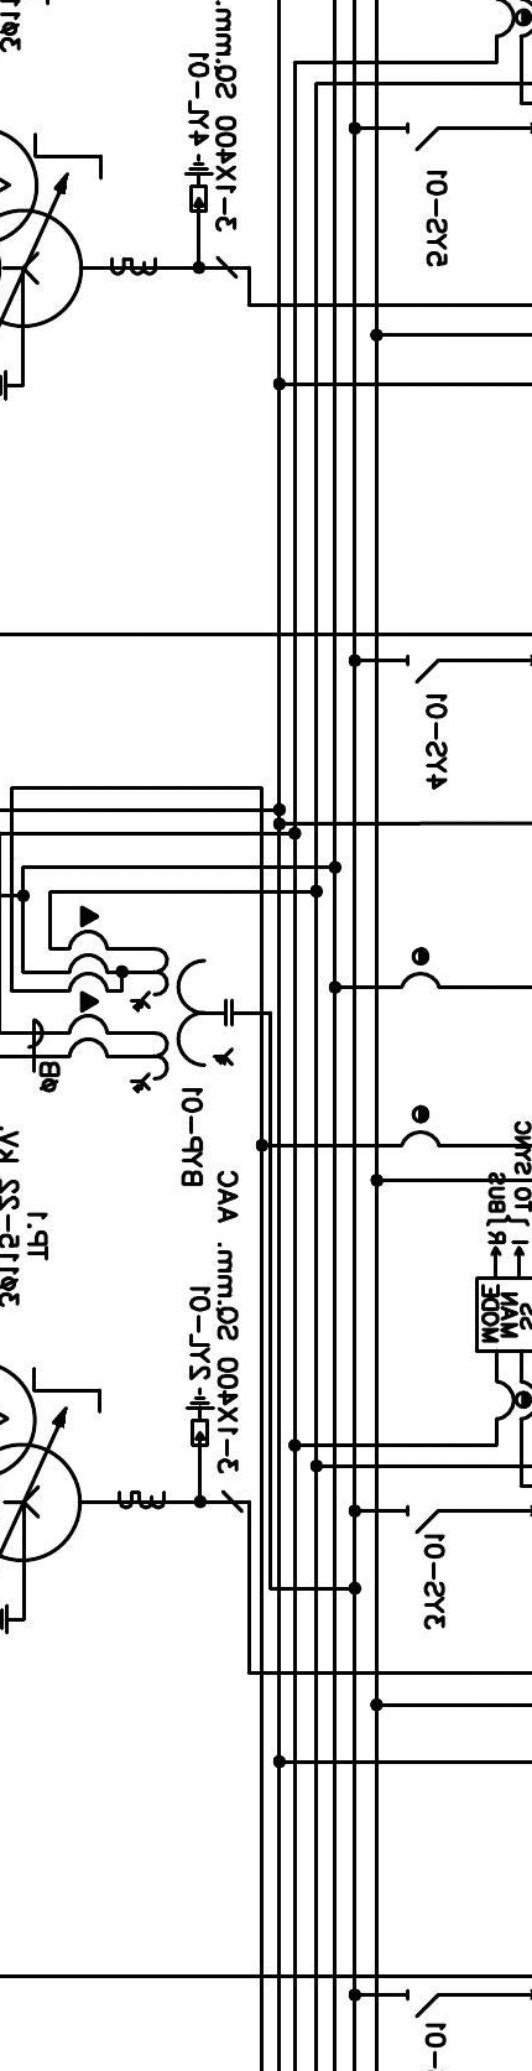115_cvt_3p: (128, 946, 235, 1095)
115_ds: (405, 1503, 441, 1535), (405, 1988, 440, 2019), (405, 652, 440, 684), (405, 120, 440, 152)
115_la: (183, 1387, 216, 1448), (183, 152, 215, 213)
